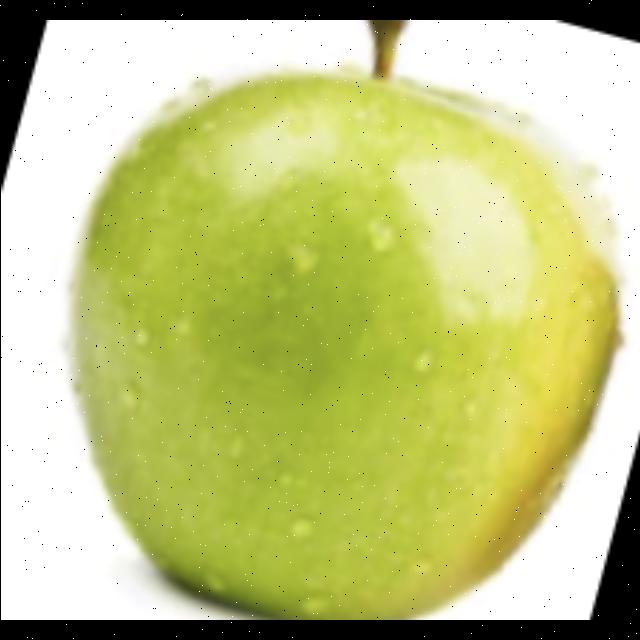Apel Segar: (65, 74, 620, 620)
